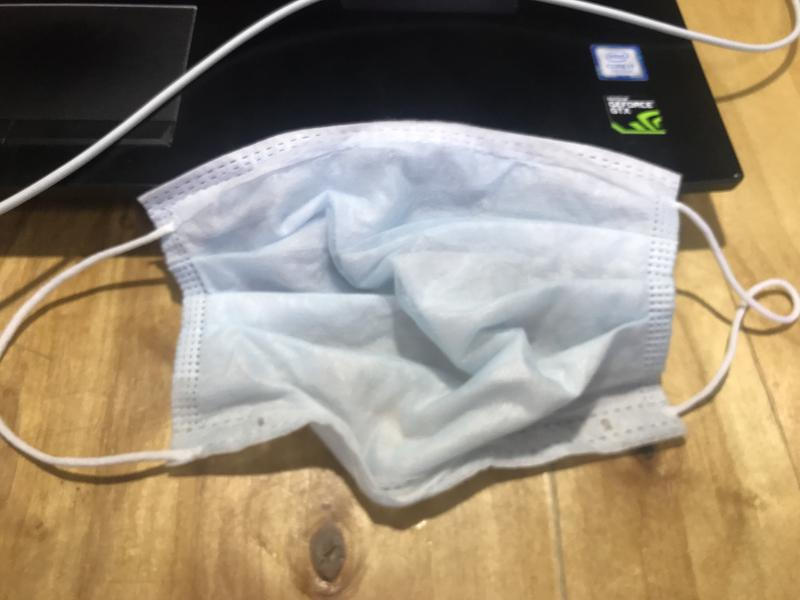medical_mask: (3, 120, 800, 509)
